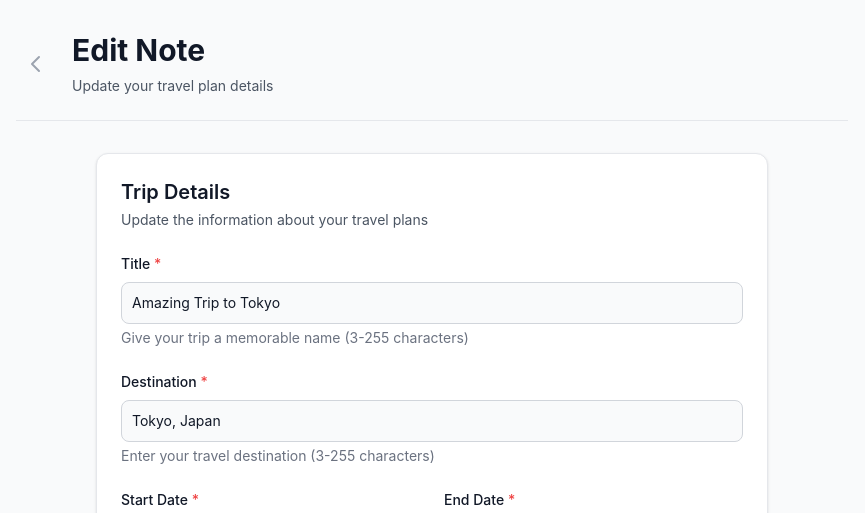
Test case: NoteEditView - Core Functionality › Form Submission and Updates › should handle unexpected errors during update with generic message
// Fill and submit form
Replace the text in the field labelled "Title *" with "Updated Title" at [432, 303], box [121, 282, 743, 324]
(page scrolled)
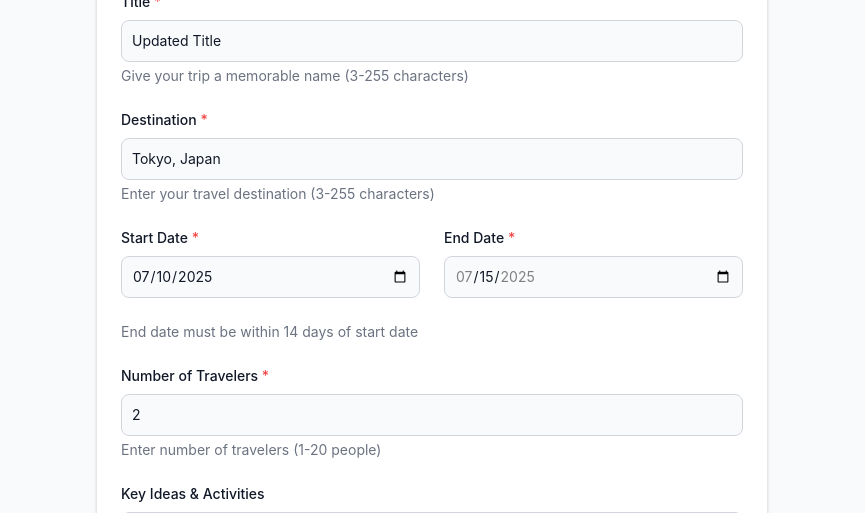
Submit the form
(page scrolled)
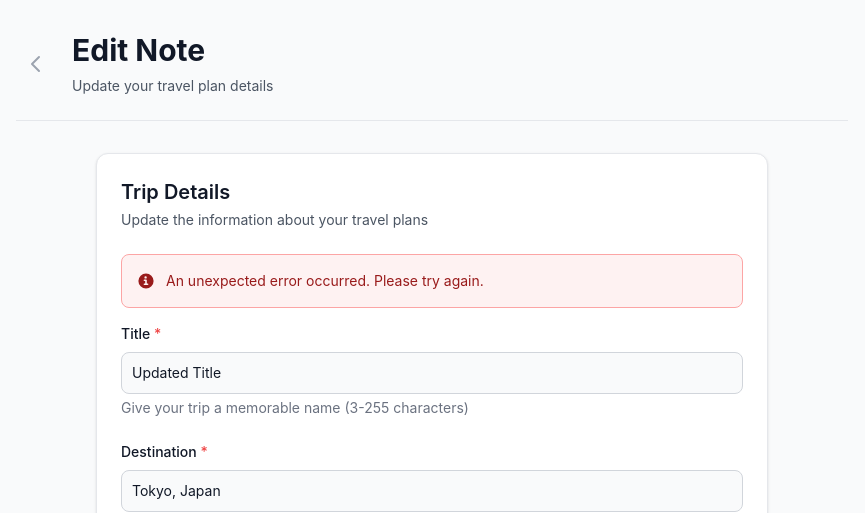
Check: the message "An unexpected error occurred. Please try again." is shown, box [121, 254, 743, 308]
Check: the text "An unexpected error occurred. Please try again." is shown, box [166, 271, 484, 291]
